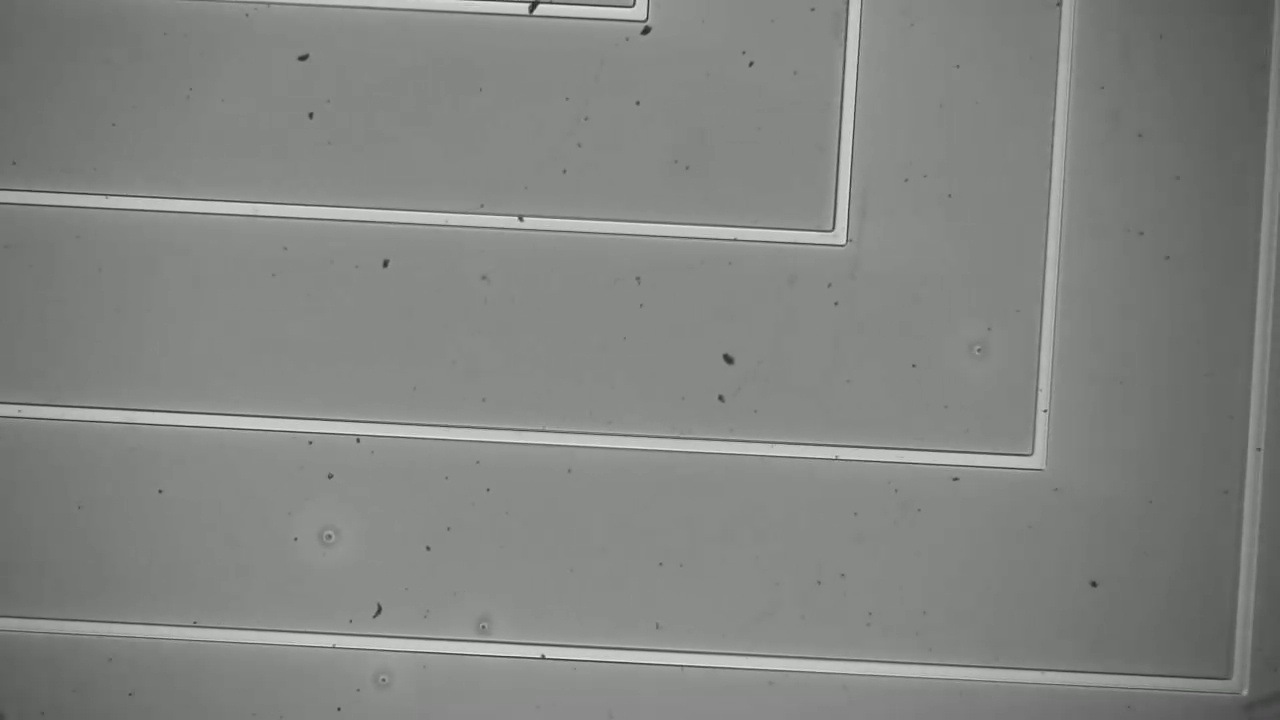stains_enbedded: (519, 0, 544, 25)
